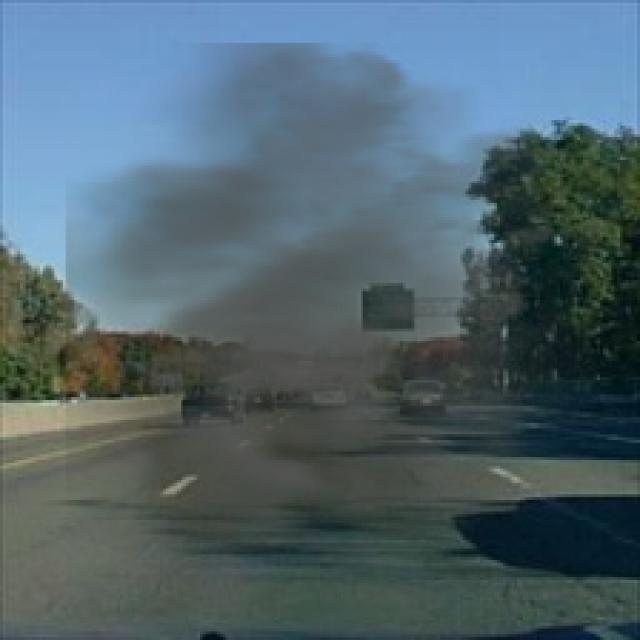smoke: (65, 43, 626, 583)
